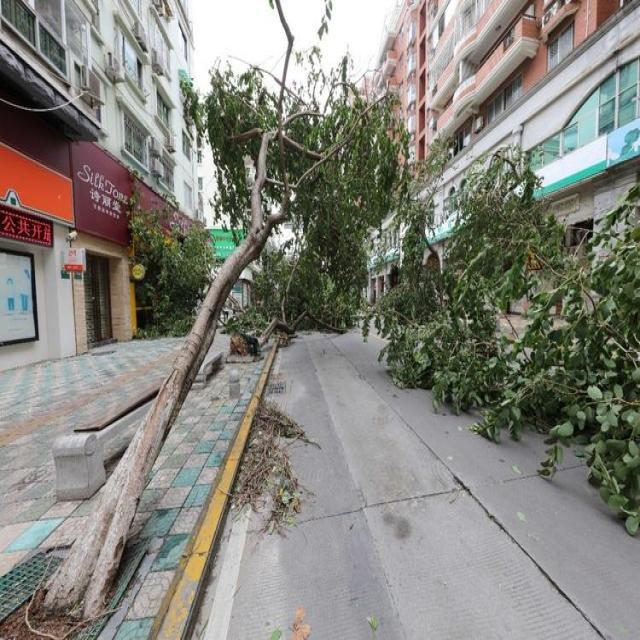fallen_object: (29, 0, 402, 630)
